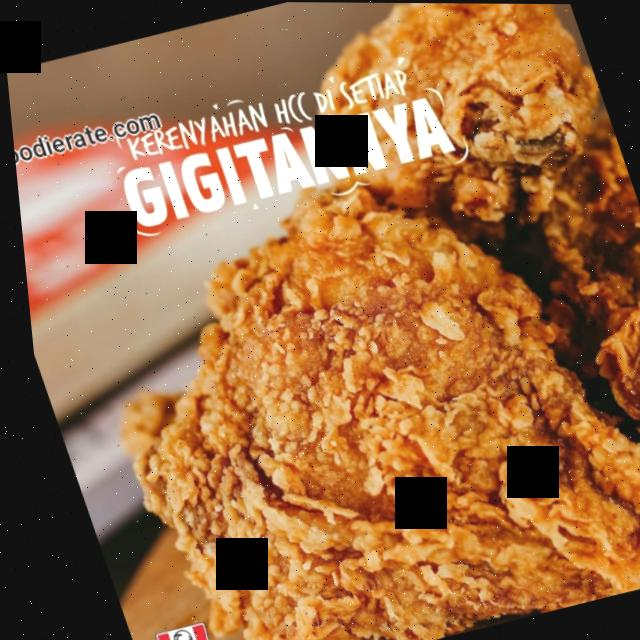Frango: (42, 126, 640, 640)
